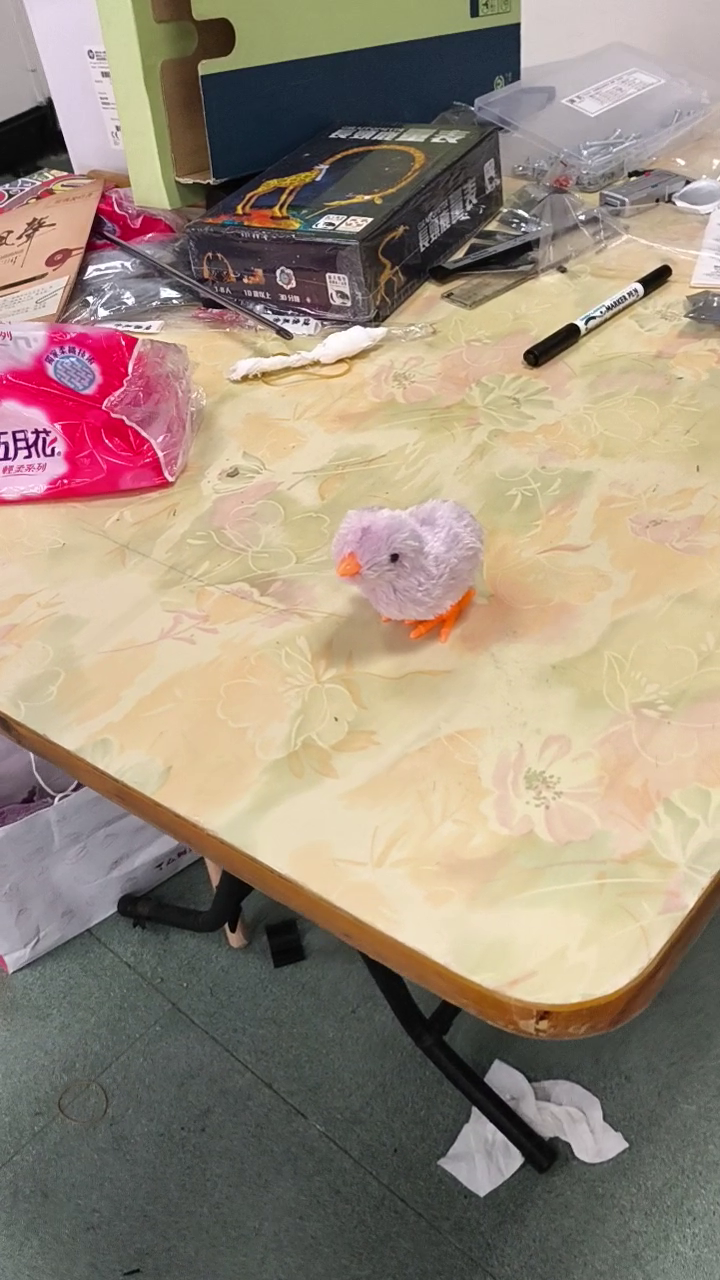pink chicken: (329, 495, 490, 649)
